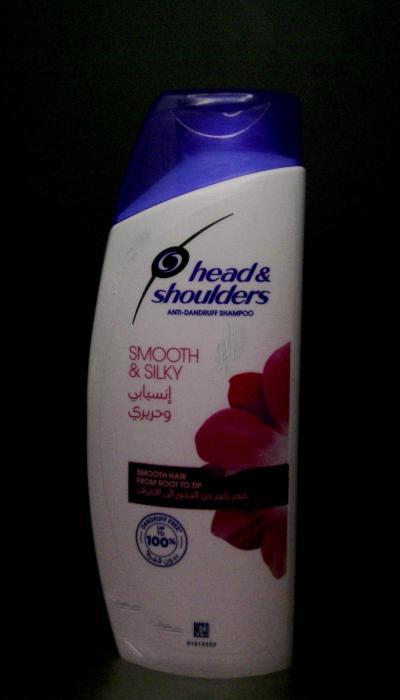scuff_marg: (108, 229, 154, 304), (211, 317, 249, 379), (106, 593, 148, 617), (148, 616, 187, 640), (118, 634, 144, 662)
